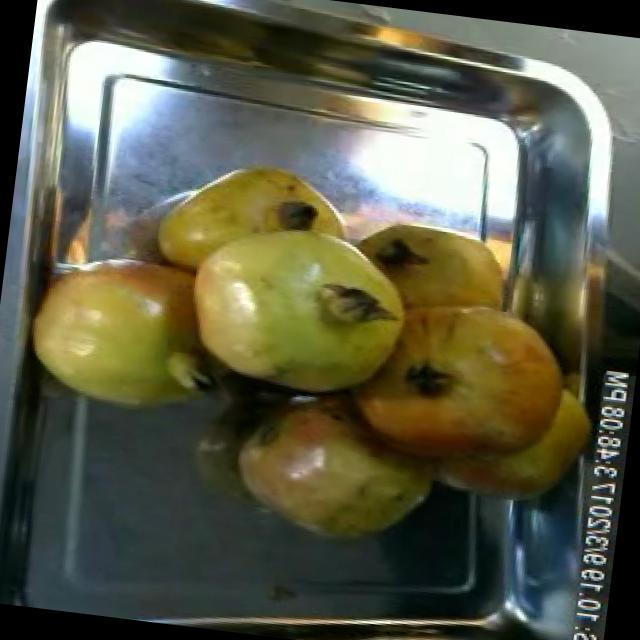fruit: (154, 176, 432, 415), (330, 268, 596, 498), (8, 222, 236, 442), (215, 376, 458, 562)
